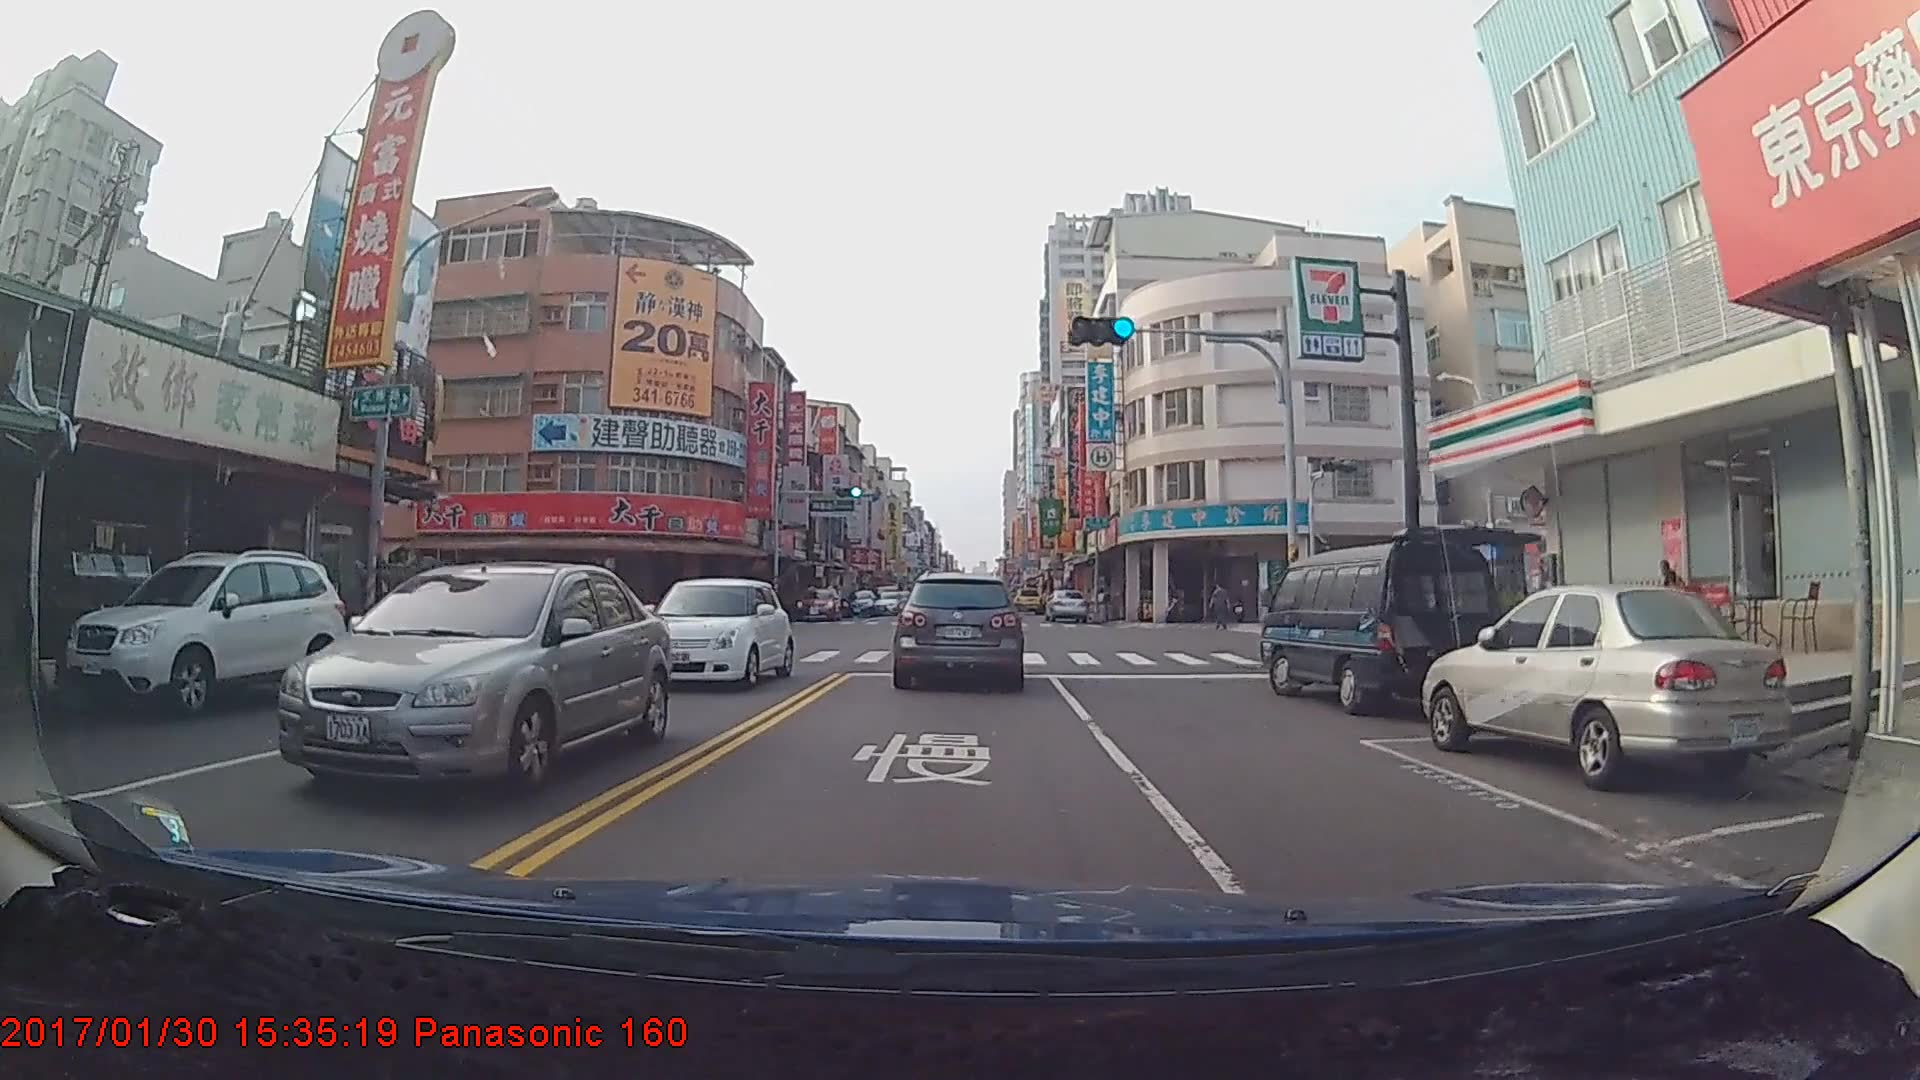pedestrian: (1213, 584, 1234, 635)
vehicle: (272, 556, 672, 800), (1430, 579, 1791, 791), (50, 548, 353, 723), (1264, 538, 1506, 717), (628, 574, 792, 691), (894, 570, 1025, 689), (1042, 586, 1091, 624), (797, 584, 841, 619), (841, 589, 878, 615), (1013, 586, 1043, 612)
